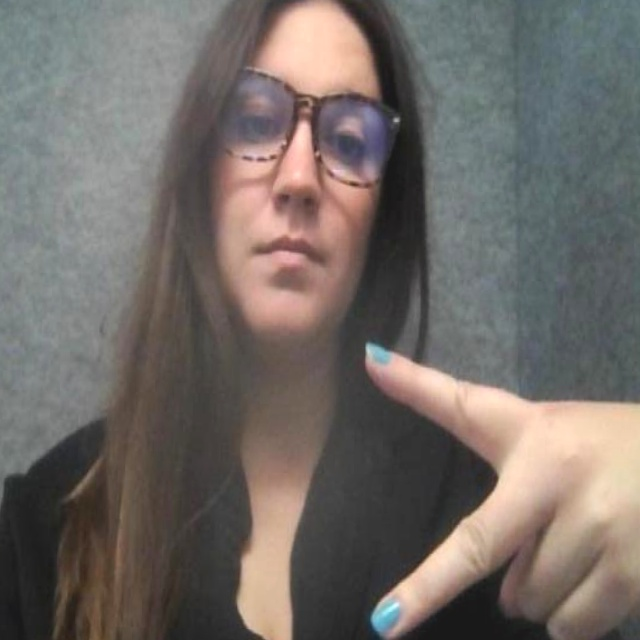Scissors: (342, 319, 640, 640)
